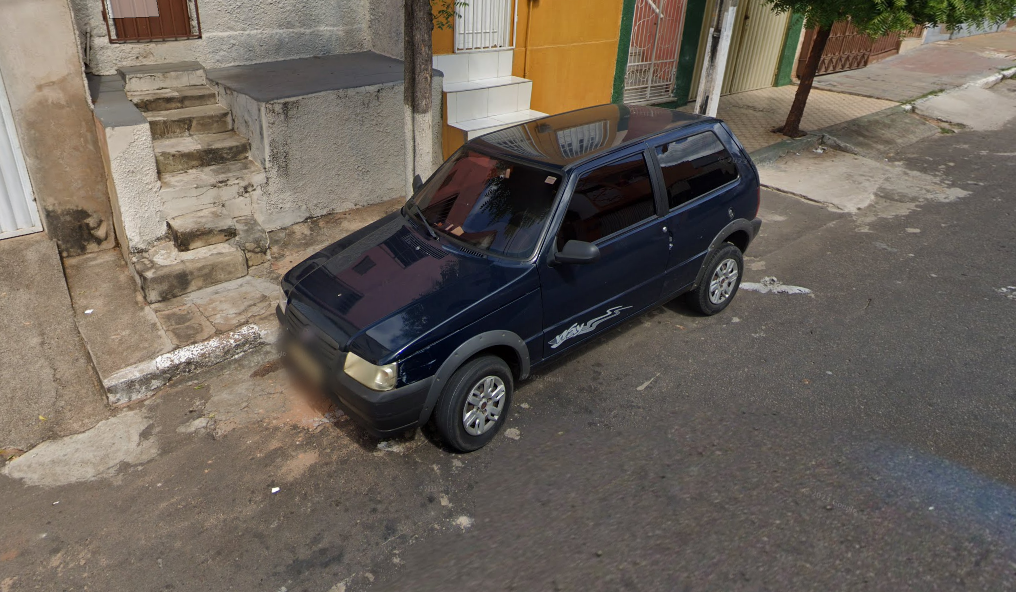car: (266, 98, 769, 462)
